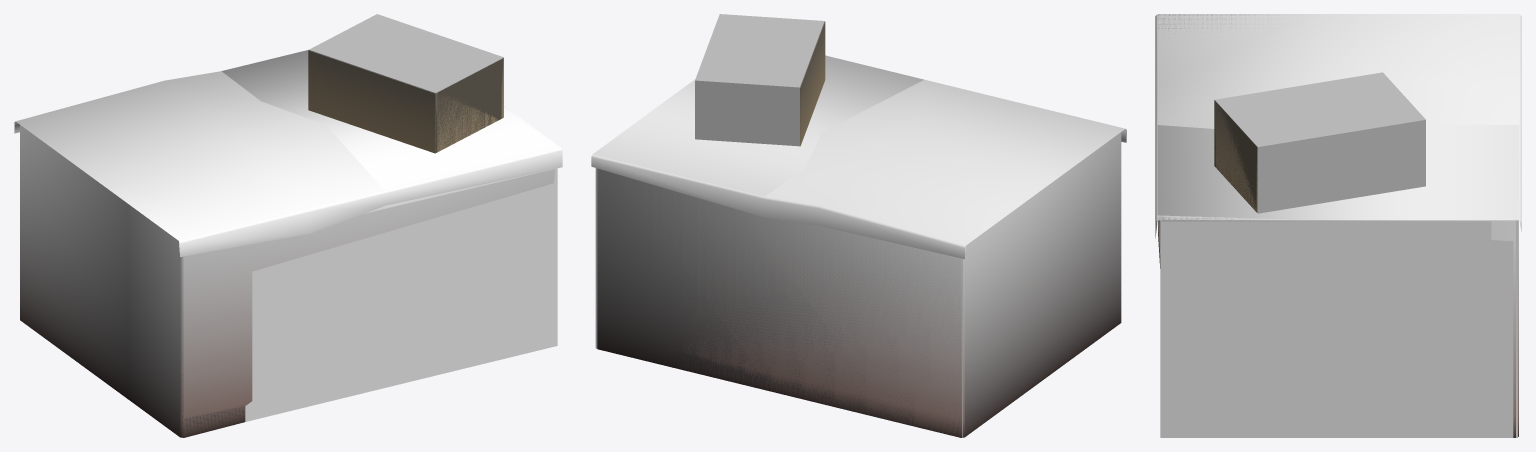
The model's file is eca_fv_metal_box.DAE.
3 views of the same model, side by side, from view 1: azimuth 30°, elevation 25°; view 2: azimuth 150°, elevation 25°; view 3: azimuth 270°, elevation 25° (orthographic). The views are drawn at different scales.
Parts seen in each view (by area): view 1: eca_fv_metal_box100, Colmesh-1, eca_fv_metal_box40, eca_fv_metal_box20; view 2: eca_fv_metal_box40, eca_fv_metal_box100, Colmesh-1; view 3: Colmesh-1, eca_fv_metal_box100, eca_fv_metal_box40, eca_fv_metal_box20.
Boxes of the visible parts, <box> form: eca_fv_metal_box100: <box>14,50,562,437</box>; Colmesh-1: <box>245,14,557,421</box>; eca_fv_metal_box40: <box>14,50,560,437</box>; eca_fv_metal_box20: <box>336,58,503,152</box>; eca_fv_metal_box40: <box>592,55,1126,437</box>; eca_fv_metal_box100: <box>591,21,1126,437</box>; Colmesh-1: <box>595,14,962,437</box>; Colmesh-1: <box>1160,72,1517,437</box>; eca_fv_metal_box100: <box>1155,14,1521,437</box>; eca_fv_metal_box40: <box>1155,14,1521,317</box>; eca_fv_metal_box20: <box>1214,105,1257,211</box>.
Bounding box in the file's own units: 1.62 × 1.22 × 1.05.
